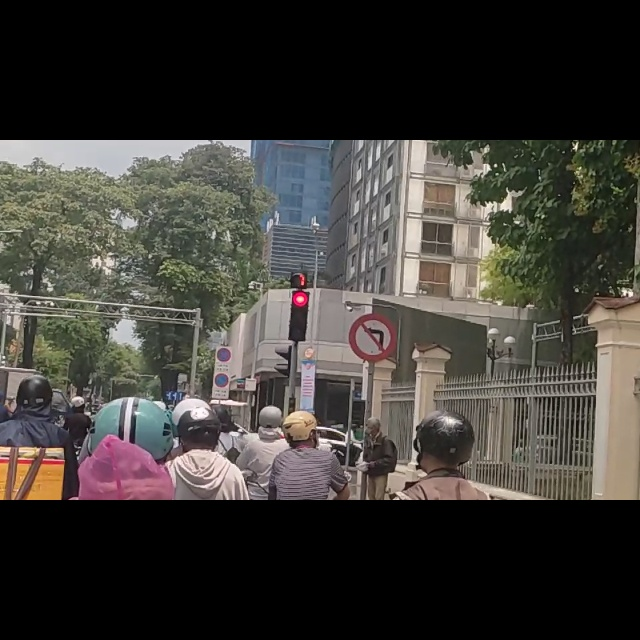bien_chi_dan: (349, 307, 398, 399), (213, 416, 229, 443), (217, 370, 232, 397)
